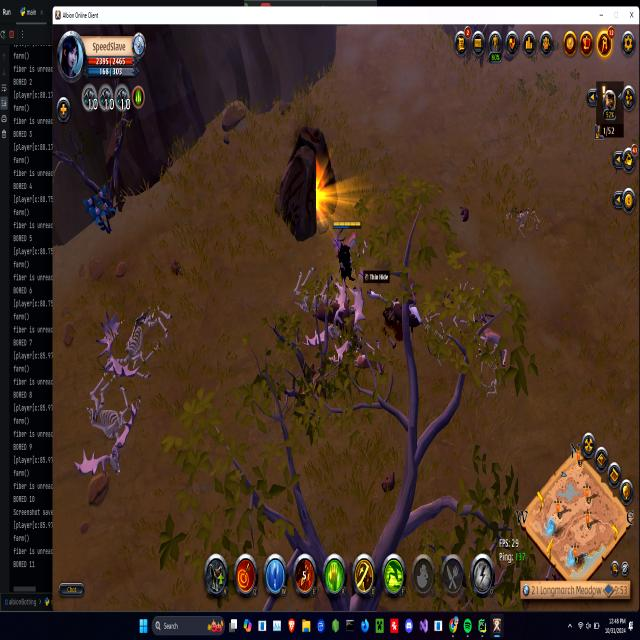hide: (85, 186, 113, 231)
mob: (311, 284, 361, 352), (384, 281, 426, 332), (474, 308, 508, 365), (354, 340, 386, 377)
red: (332, 218, 361, 282)
